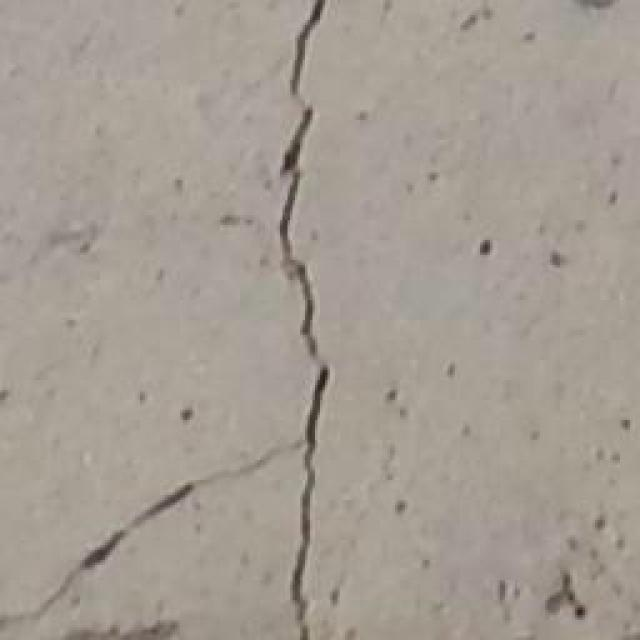concrete-crack: (0, 0, 330, 640)
